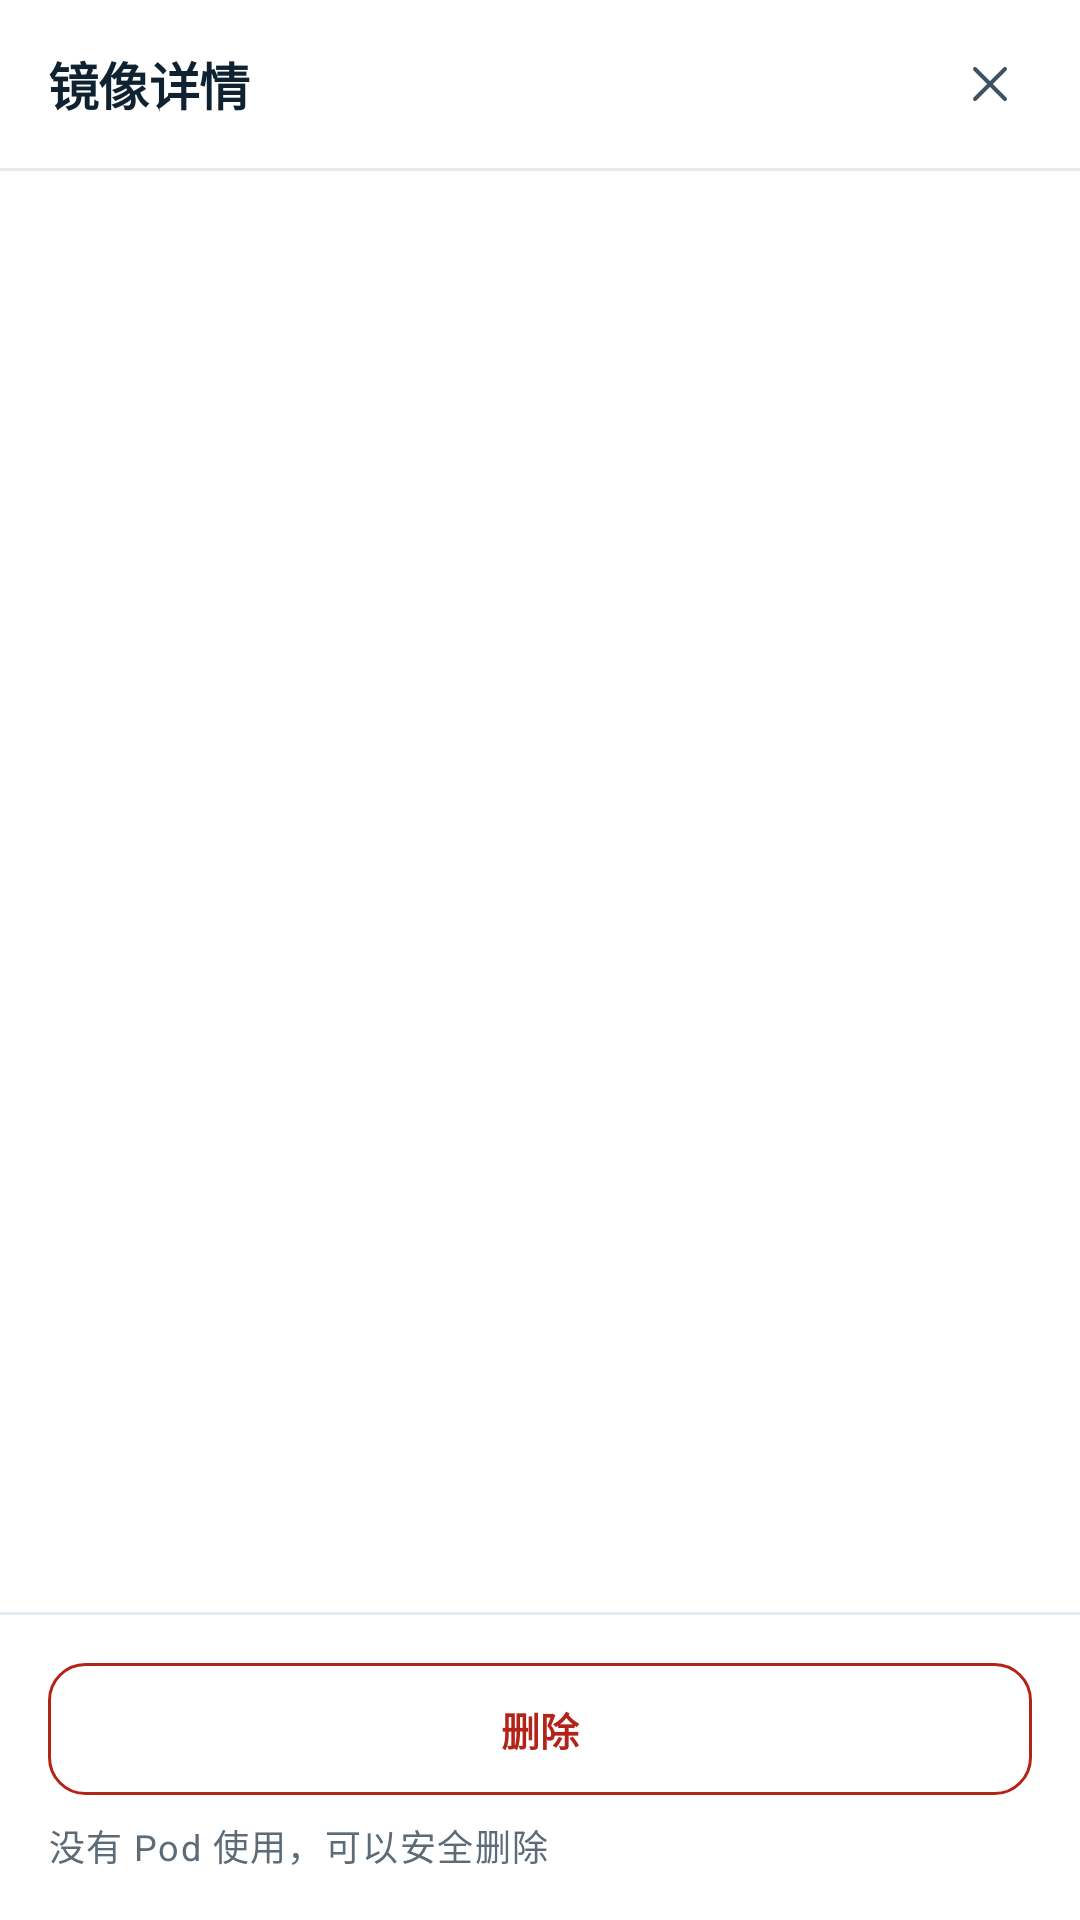

Icons on this 1080x1920 Android screen, each with the point to tap as [x,y]:
关闭: [990,84]
